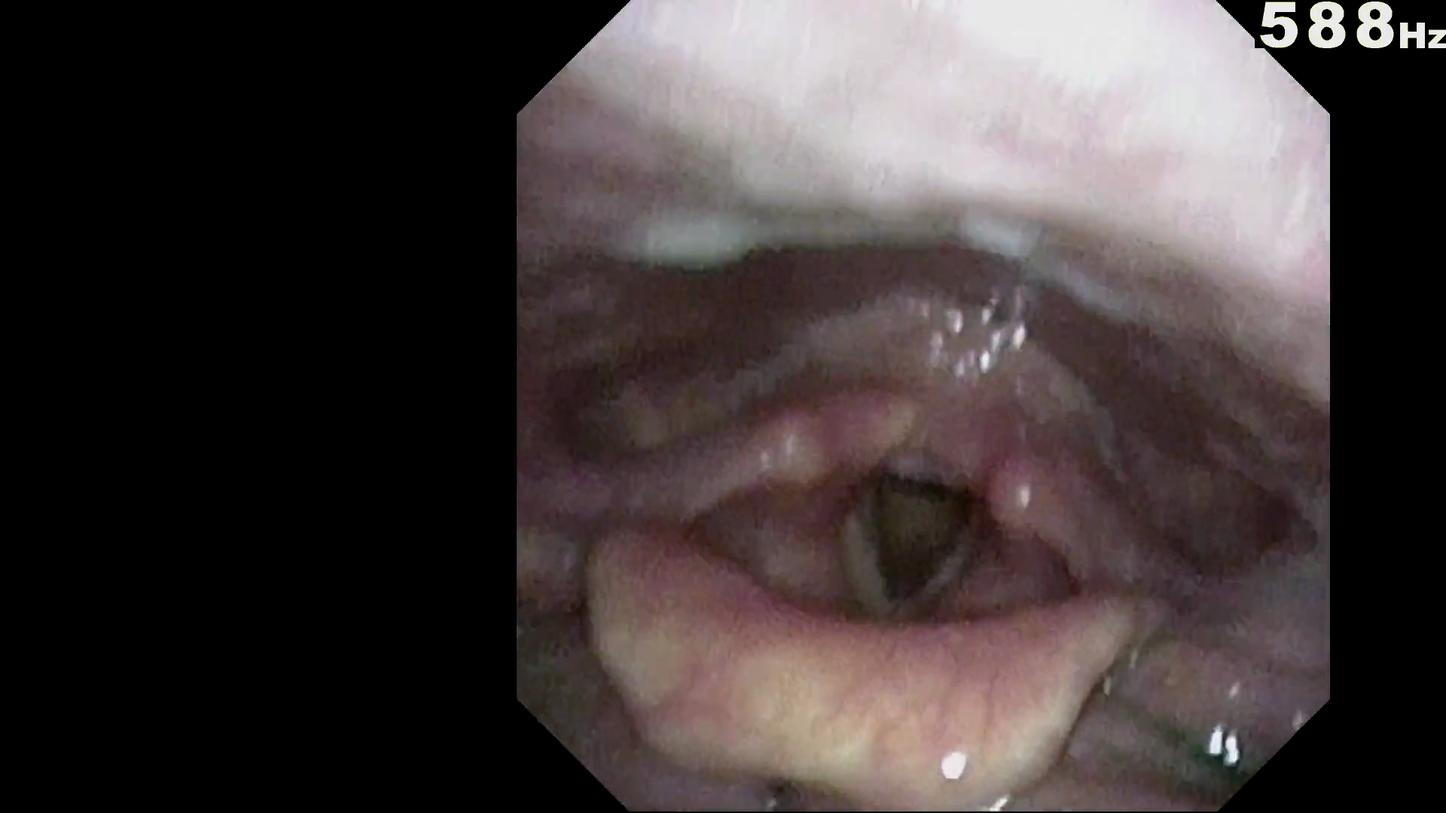epiglottis: (596, 564, 1137, 754)
trachea: (843, 477, 967, 630)
